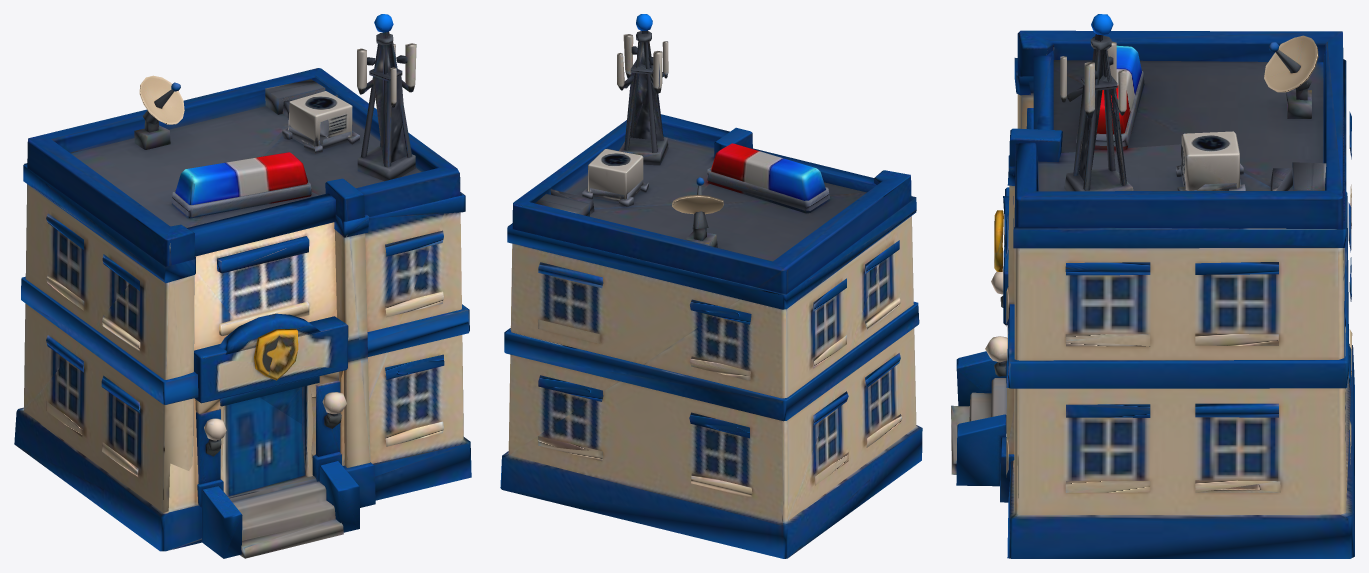
Rendered from police_station.glb.
3 views of the same model, side by side, from view 1: azimuth 30°, elevation 25°; view 2: azimuth 150°, elevation 25°; view 3: azimuth 270°, elevation 25° (orthographic). The views are drawn at different scales.
Parts seen in each view (by area): view 1: geometry_0; view 2: geometry_0; view 3: geometry_0.
Boxes of the visible parts, bbox=[...] form: geometry_0: bbox=[14, 14, 471, 558]; geometry_0: bbox=[500, 14, 922, 558]; geometry_0: bbox=[951, 14, 1354, 558].
Bounding box in the file's own units: 0.6919 × 0.9526 × 0.6685.
Materials: 1 (1 with a texture image).
